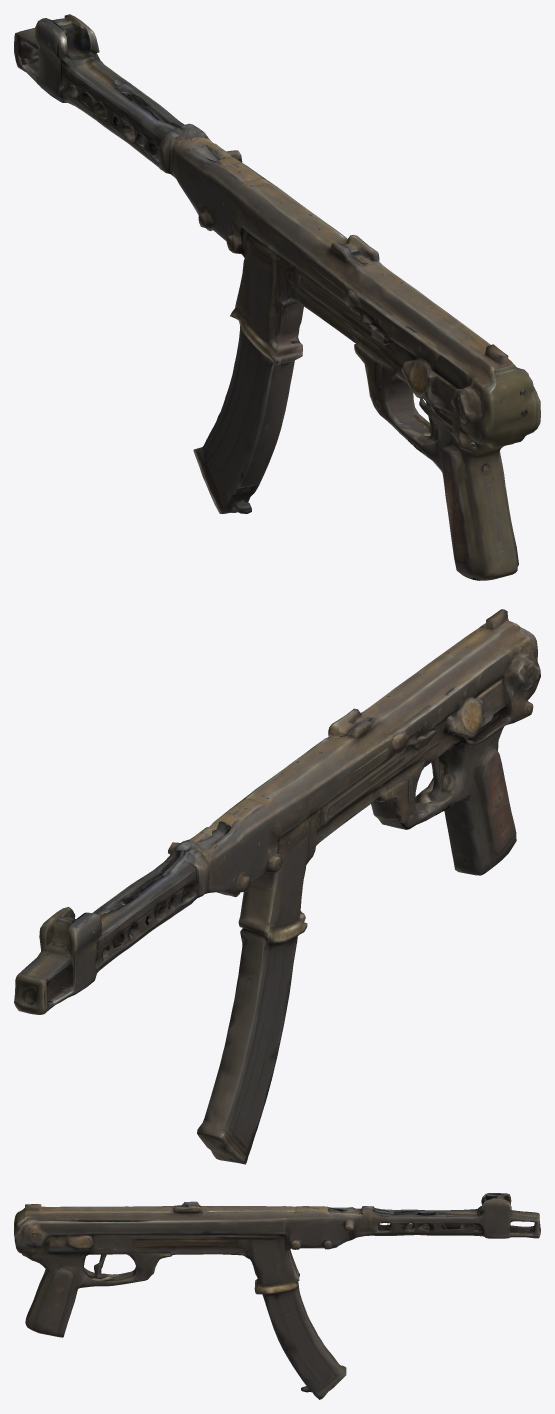
File: smg2.glb
3 views of the same model, one above another, from view 1: azimuth 30°, elevation 25°; view 2: azimuth 150°, elevation 25°; view 3: azimuth 270°, elevation 25° (orthographic). The views are drawn at different scales.
Bounding box in the file's own units: 0.1704 × 0.8378 × 2.
1 material, 1 textured.
